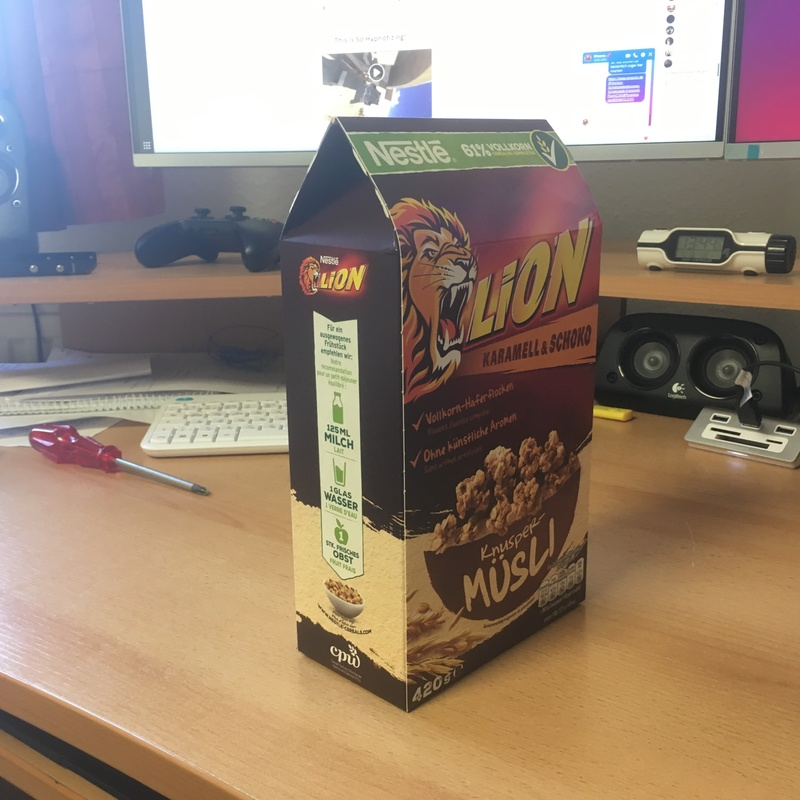cereals: (280, 117, 602, 712)
